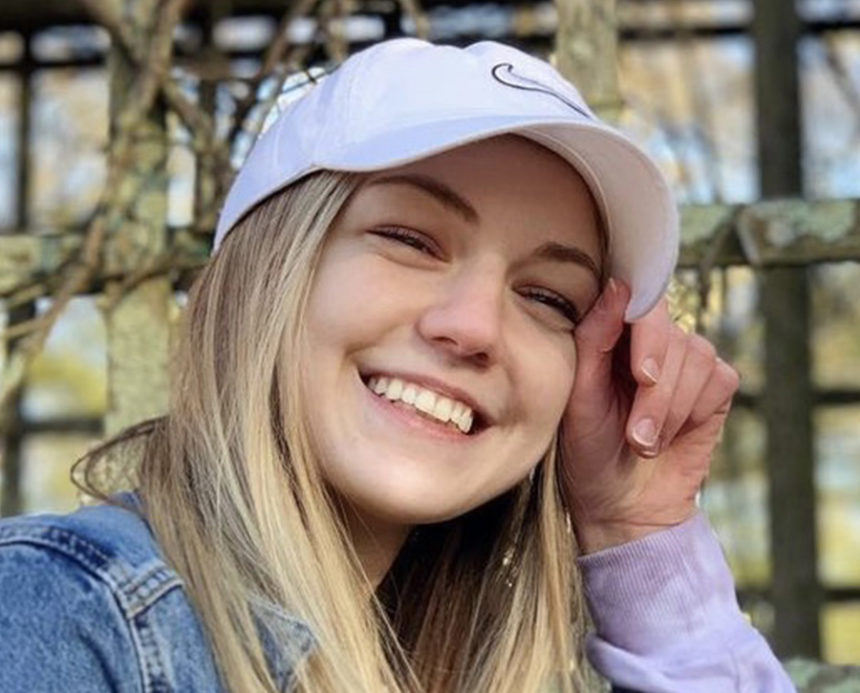person: (18, 36, 819, 693)
